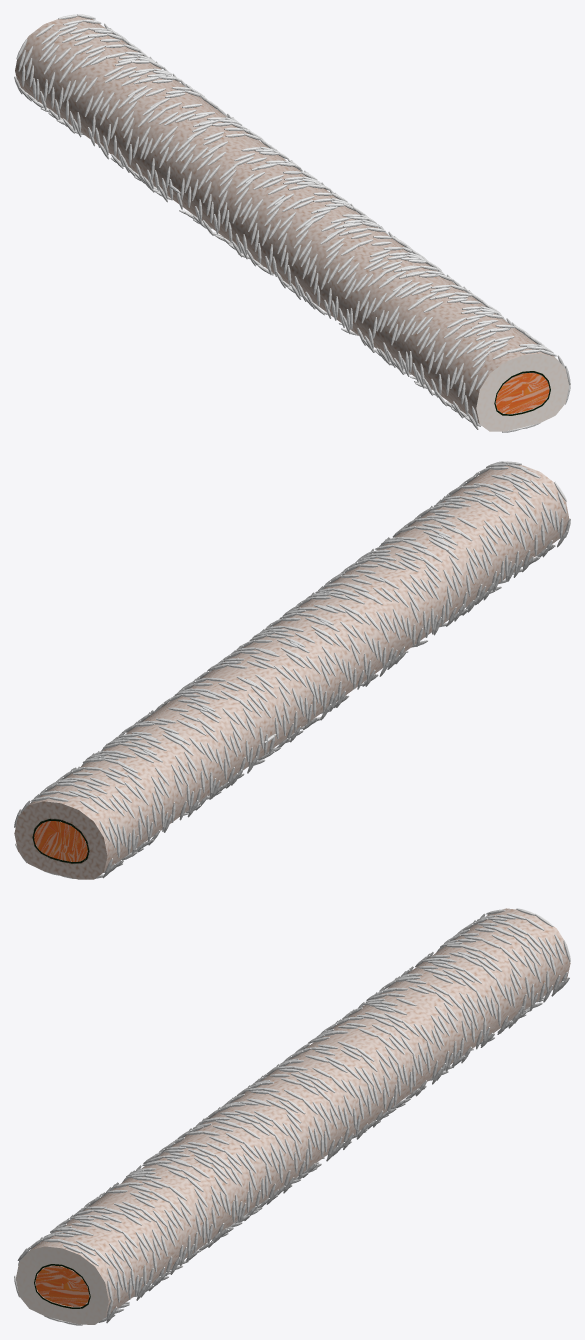
The model's file is pirinclisushi.fbx.
3 renders of one model, top to bottom at view 1: azimuth 30°, elevation 25°; view 2: azimuth 150°, elevation 25°; view 3: azimuth 330°, elevation 25°, orthographic.
Visible parts, largest first — view 1: Cylinder.006, Cylinder.1005, Cylinder.003, Cylinder.004, Cylinder.001; view 2: Cylinder.006, Cylinder.1005, Cylinder.003, Cylinder.004, Cylinder.001; view 3: Cylinder.006, Cylinder.1005, Cylinder.003, Cylinder.004, Cylinder.001.
Boxes of the visible parts, x1,y1,x2,y2 form: Cylinder.006: (15,16,554,423); Cylinder.1005: (14,14,570,432); Cylinder.003: (476,353,569,431); Cylinder.004: (509,373,549,412); Cylinder.001: (496,373,532,413); Cylinder.006: (28,465,569,871); Cylinder.1005: (14,461,570,878); Cylinder.003: (14,801,107,879); Cylinder.004: (34,821,74,859); Cylinder.001: (60,822,87,861); Cylinder.006: (30,908,570,1317); Cylinder.1005: (14,908,570,1325); Cylinder.003: (15,1246,108,1324); Cylinder.004: (49,1267,88,1306); Cylinder.001: (35,1266,72,1304).
Size of the model in its own units: 9 by 6.76 by 72.07.
